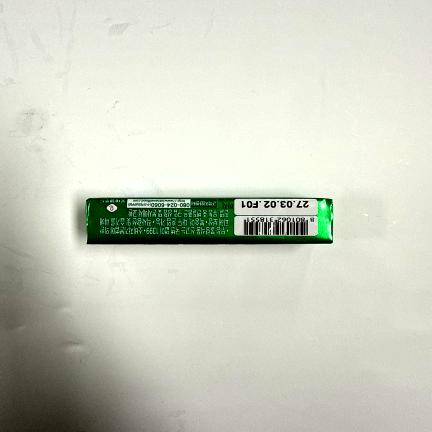gum_green: (85, 195, 333, 244)
